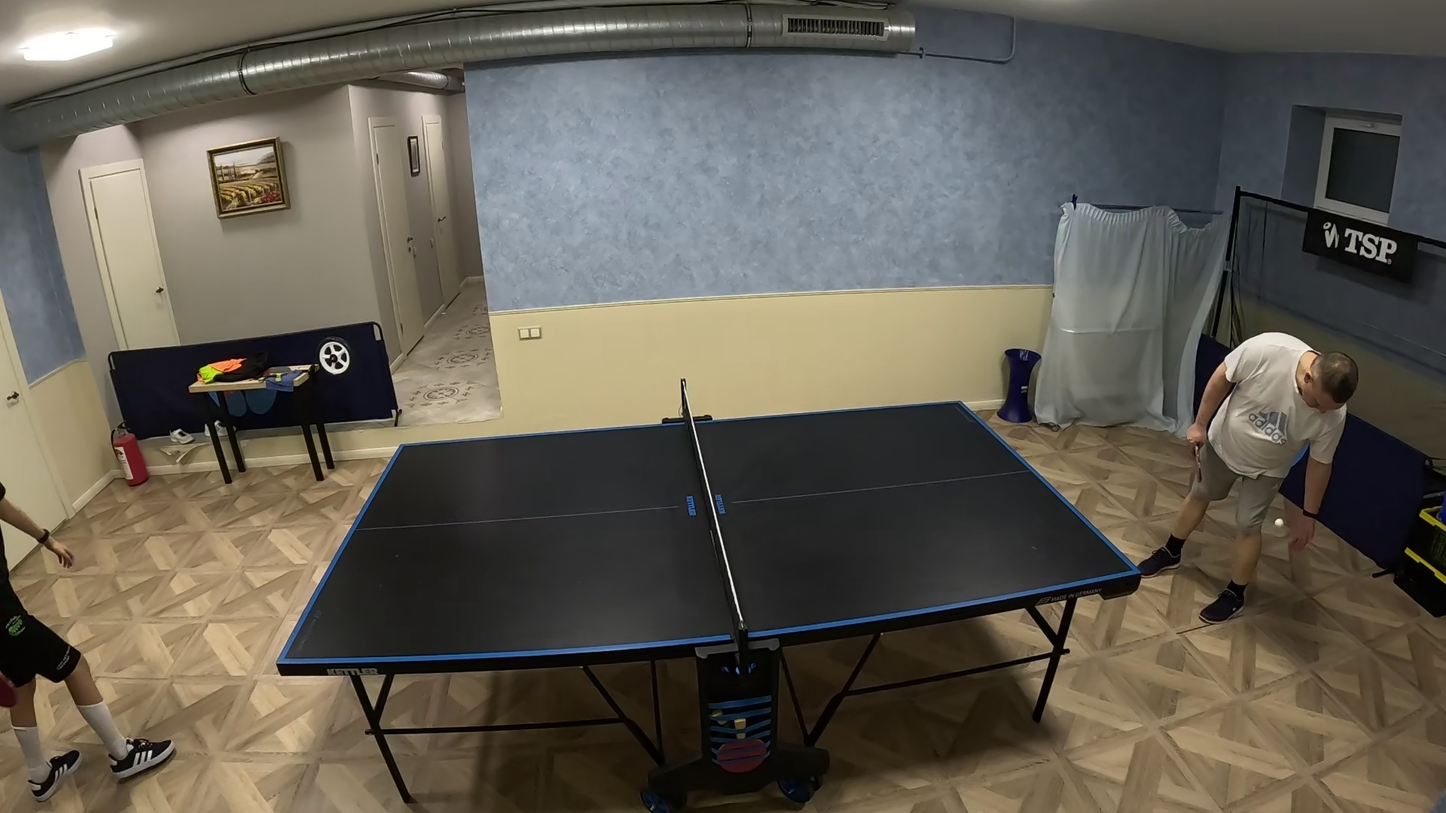Ball: (1276, 518, 1283, 527)
